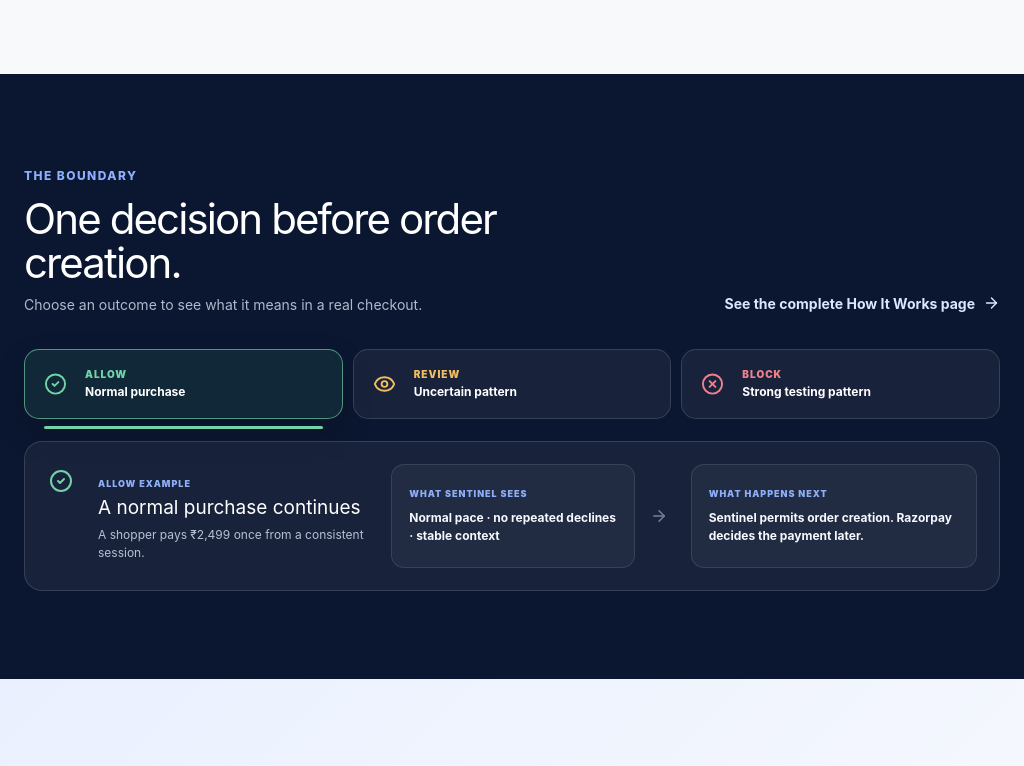
Test: public navigation and home › explains each boundary outcome and clearly links to How It Works
(page scrolled)
Check: the heading "A normal purchase continues" is shown, box [98,497,376,520]
What coordinates should you click on to do the following:
click the button "REVIEW Uncertain pattern"
I would click on:
 (512, 384)
Its box is [353,349,671,419].
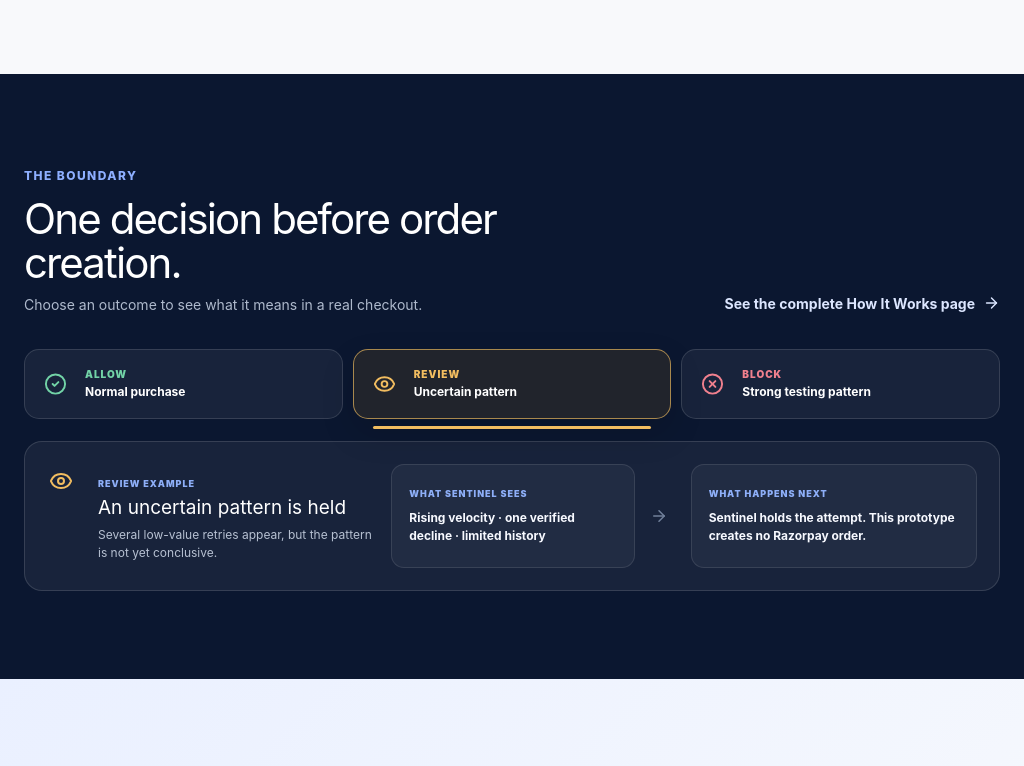
Check: the heading "An uncertain pattern is held" is shown, box [98,497,376,520]
Check: the text "This prototype creates no Razorpay order" is shown, box [709,510,955,543]
